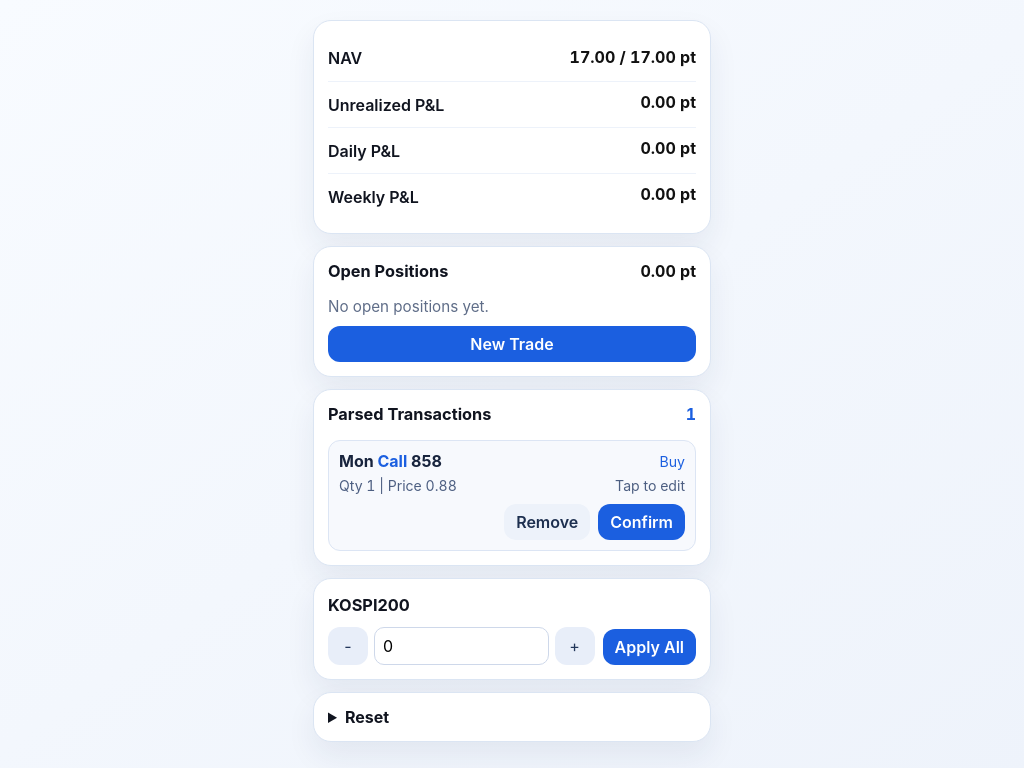
Test: App dashboard › parses broker weekly sms format into a pending transaction
expect the heading "Parsed Transactions" is shown: met, box [328,404,491,424]
What coordinates should you click on to do the following:
click the button "Mon Call 858 Buy Qty 1 | Price 0.88 Tap to edit"
I would click on:
 (356, 461)
Its box is [339,451,685,494].
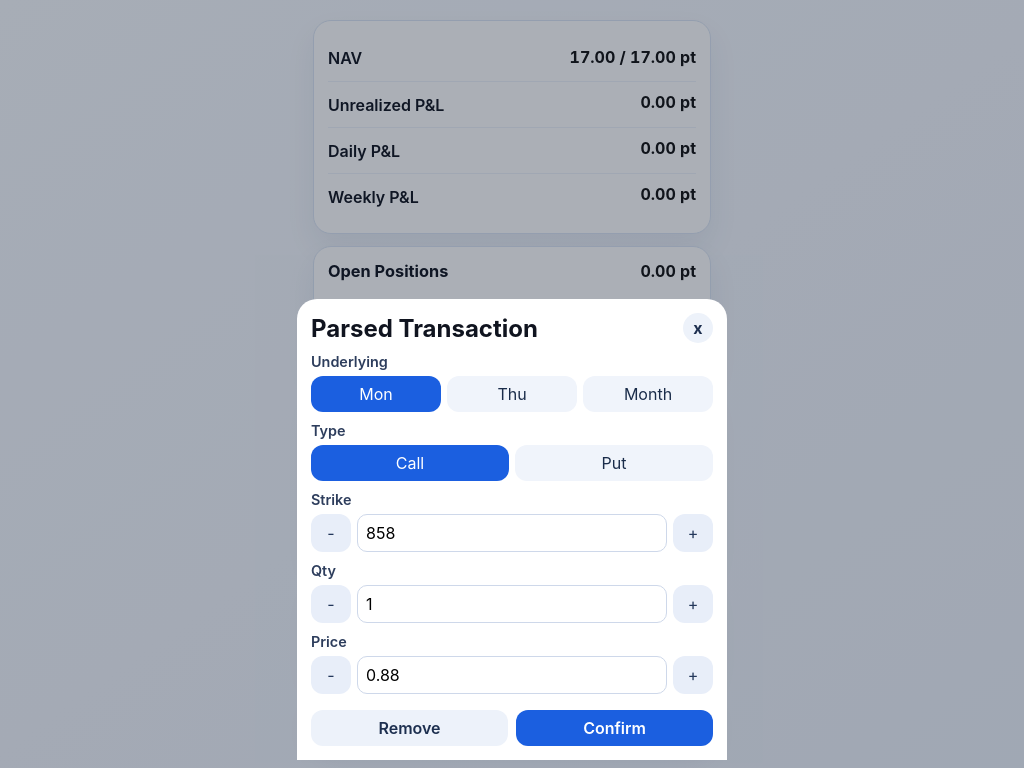
expect the field named "Strike" holds "858": met, box [357,514,667,552]
expect the field named "Qty" holds "1": met, box [357,585,667,623]
expect the field named "Price" holds "0.88": met, box [357,656,667,694]
